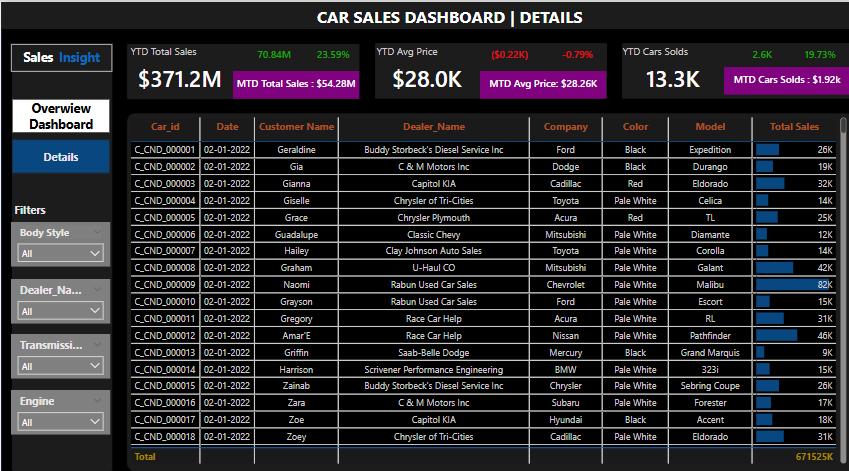

What the dashboard file says about the page in this screenshot:
{"tool":"powerbi","page":{"name":"Details","canvas":[1280,720],"ordinal":1},"visuals":[{"type":"card","title":"YTD Total Sales","fields":{"Values":["car_data.YTD Total Sales"]},"box":[186.5,62.2,157.9,82.3],"z":0},{"type":"card","fields":{"Values":["car_data.Sales Difference"]},"box":[361.2,62.2,87.3,35.3],"z":1000},{"type":"card","fields":{"Values":["car_data.YOY Sales Growth"]},"box":[448.5,62.2,87.3,35.3],"z":2000},{"type":"card","fields":{"Values":["car_data.MTD KPI"]},"box":[343.8,102.9,186.6,41.1],"z":3000},{"type":"card","title":"YTD Avg Price","fields":{"Values":["car_data.YTD Avg Price"]},"box":[551,61.7,158.7,82.3],"z":4000},{"type":"card","fields":{"Values":["car_data.Avg Price Diff"]},"box":[709.7,61.7,86.7,35.3],"z":5000},{"type":"card","fields":{"Values":["car_data.YOY Avg Price Growth"]},"box":[809.6,61.7,86.7,35.3],"z":6000},{"type":"card","fields":{"Values":["car_data.MTD Avg KPI"]},"box":[709.7,102.9,186.6,41.1],"z":7000},{"type":"card","title":"YTD Cars Solds","fields":{"Values":["car_data.YTD Cars Solds"]},"box":[915.4,61.7,158.7,82.3],"z":8000},{"type":"card","fields":{"Values":["car_data.Cars Sold Diff"]},"box":[1084.4,61.7,86.7,35.3],"z":9000},{"type":"card","fields":{"Values":["car_data.YOY Cars Sold"]},"box":[1171.1,61.7,86.7,35.3],"z":10000},{"type":"card","fields":{"Values":["car_data.MTD Cars Sold KPI"]},"box":[1071.2,97,186.6,41.1],"z":11000},{"type":"textbox","box":[432,0,464.3,45.6],"z":12000},{"type":"slicer","fields":{"Values":["car_data.Body Style"]},"box":[14.7,326.2,146.9,66.1],"z":13000},{"type":"slicer","fields":{"Values":["car_data.Dealer_Name"]},"box":[14.7,410,146.9,66.1],"z":14000},{"type":"slicer","fields":{"Values":["car_data.Transmission"]},"box":[14.7,492.2,146.9,66.1],"z":15000},{"type":"slicer","fields":{"Values":["car_data.Engine"]},"box":[14.7,574.5,146.9,66.1],"z":16000},{"type":"textbox","box":[14.7,292.4,149.9,32.3],"z":17000},{"type":"tableEx","fields":{"Values":["car_data.Car_id","car_data.Date","car_data.Customer Name","car_data.Dealer_Name","car_data.Company","car_data.Color","car_data.Model","Sum(car_data.Price ($))"]},"box":[186.6,166,1071.2,523.1],"z":18000},{"type":"textbox","box":[14.7,61.7,149.9,41.1],"z":19000},{"type":"pageNavigator","box":[16.2,144,145.5,110.2],"z":20000}]}

Visuals, with their boxes in screenshot pixels (x1, y1, x2, y2), scaled from the page's 1280x720 canvas onto the 849x471 screenshot:
"YTD Total Sales" card: Rect(124, 41, 228, 95)
card - car_data.Sales Difference: Rect(240, 41, 297, 64)
card - car_data.YOY Sales Growth: Rect(297, 41, 355, 64)
card - car_data.MTD KPI: Rect(228, 67, 352, 94)
"YTD Avg Price" card: Rect(365, 40, 471, 94)
card - car_data.Avg Price Diff: Rect(471, 40, 528, 63)
card - car_data.YOY Avg Price Growth: Rect(537, 40, 594, 63)
card - car_data.MTD Avg KPI: Rect(471, 67, 594, 94)
"YTD Cars Solds" card: Rect(607, 40, 712, 94)
card - car_data.Cars Sold Diff: Rect(719, 40, 777, 63)
card - car_data.YOY Cars Sold: Rect(777, 40, 834, 63)
card - car_data.MTD Cars Sold KPI: Rect(711, 63, 834, 90)
textbox: Rect(287, 0, 594, 30)
slicer - car_data.Body Style: Rect(10, 213, 107, 257)
slicer - car_data.Dealer_Name: Rect(10, 268, 107, 311)
slicer - car_data.Transmission: Rect(10, 322, 107, 365)
slicer - car_data.Engine: Rect(10, 376, 107, 419)
textbox: Rect(10, 191, 109, 212)
tableEx - car_data.Car_id x car_data.Date: Rect(124, 109, 834, 451)
textbox: Rect(10, 40, 109, 67)
pageNavigator: Rect(11, 94, 107, 166)
